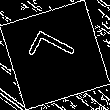L_SE: (26, 30, 84, 80)
